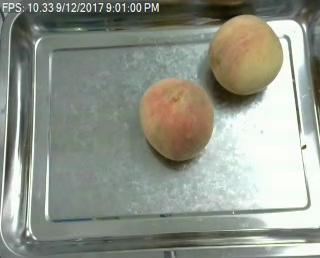Peach: (138, 76, 214, 160), (207, 14, 283, 95)
